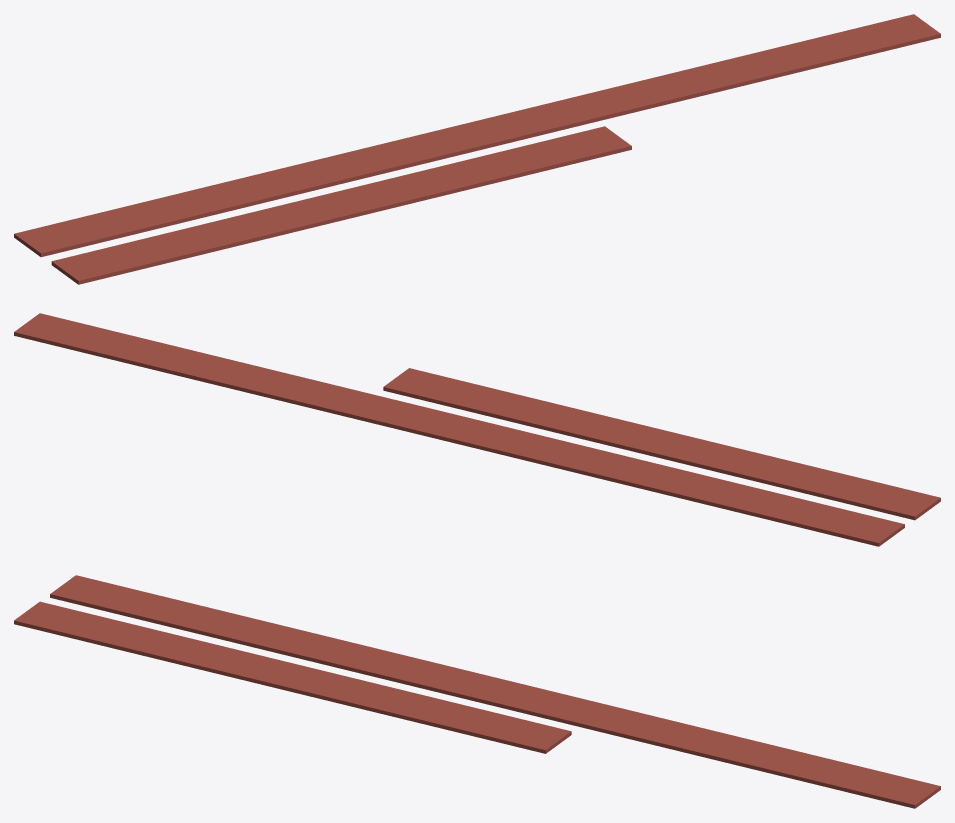
The model's file is ceiling-plank-253x20_carvalho_v0.1.dae.
3 renders of one model, top to bottom at view 1: azimuth 30°, elevation 25°; view 2: azimuth 150°, elevation 25°; view 3: azimuth 330°, elevation 25°, orthographic. The views are drawn at different scales.
Visible parts, largest first — view 1: IB-40510_ceiling-plank-253x20_carvalho_4880mm, IB-40501_ceiling-plank-253x20_carvalho_3000mm; view 2: IB-40510_ceiling-plank-253x20_carvalho_4880mm, IB-40501_ceiling-plank-253x20_carvalho_3000mm; view 3: IB-40510_ceiling-plank-253x20_carvalho_4880mm, IB-40501_ceiling-plank-253x20_carvalho_3000mm.
Boxes of the visible parts, x1=… form: IB-40510_ceiling-plank-253x20_carvalho_4880mm: x1=14, y1=14, x2=940, y2=257; IB-40501_ceiling-plank-253x20_carvalho_3000mm: x1=51, y1=126, x2=631, y2=284; IB-40510_ceiling-plank-253x20_carvalho_4880mm: x1=14, y1=313, x2=904, y2=546; IB-40501_ceiling-plank-253x20_carvalho_3000mm: x1=383, y1=368, x2=940, y2=520; IB-40510_ceiling-plank-253x20_carvalho_4880mm: x1=50, y1=575, x2=940, y2=808; IB-40501_ceiling-plank-253x20_carvalho_3000mm: x1=14, y1=601, x2=571, y2=753.
Bounding box in the file's own units: 4880 × 606 × 20.
